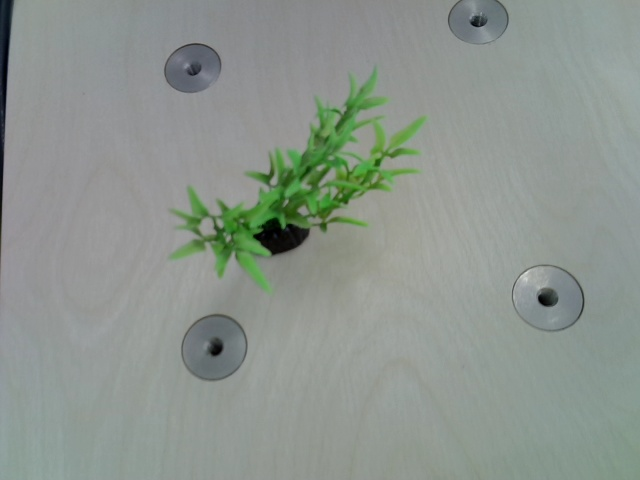튤립새싹: (193, 91, 408, 283)
